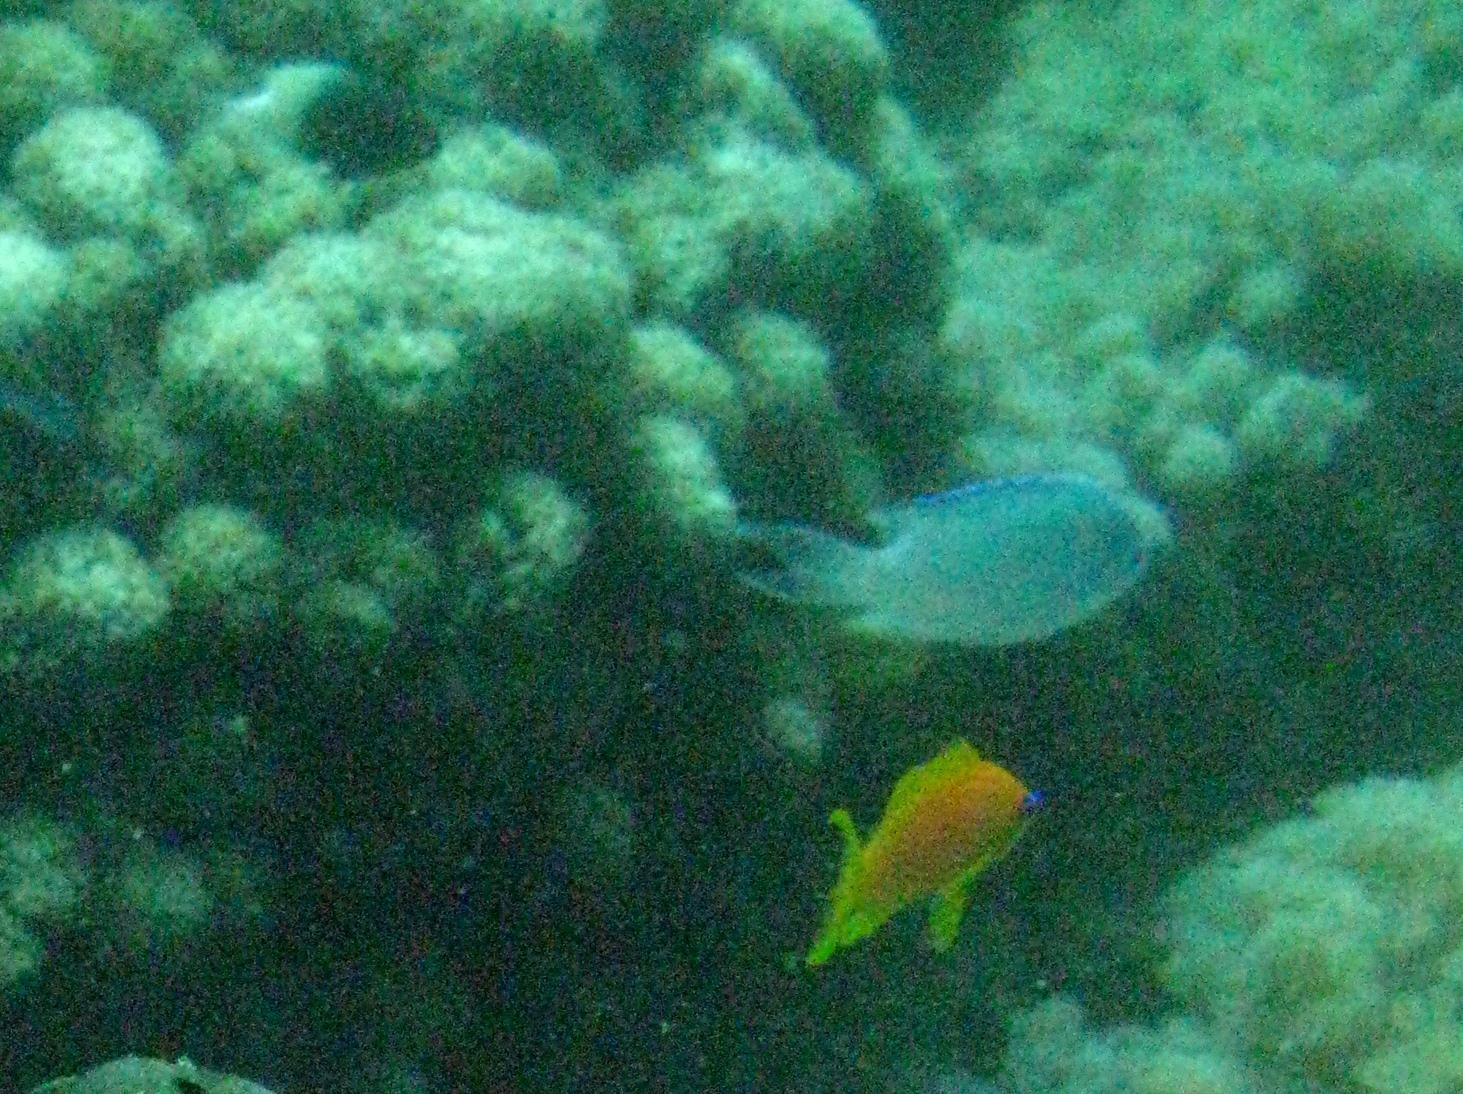Pomacentrus pavo: (713, 450, 1178, 663)
